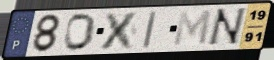8: (31, 13, 62, 53)
I: (141, 9, 159, 50)
M: (172, 8, 214, 48)
N: (205, 7, 248, 48)
O: (62, 12, 98, 53)
X: (97, 10, 143, 51)
